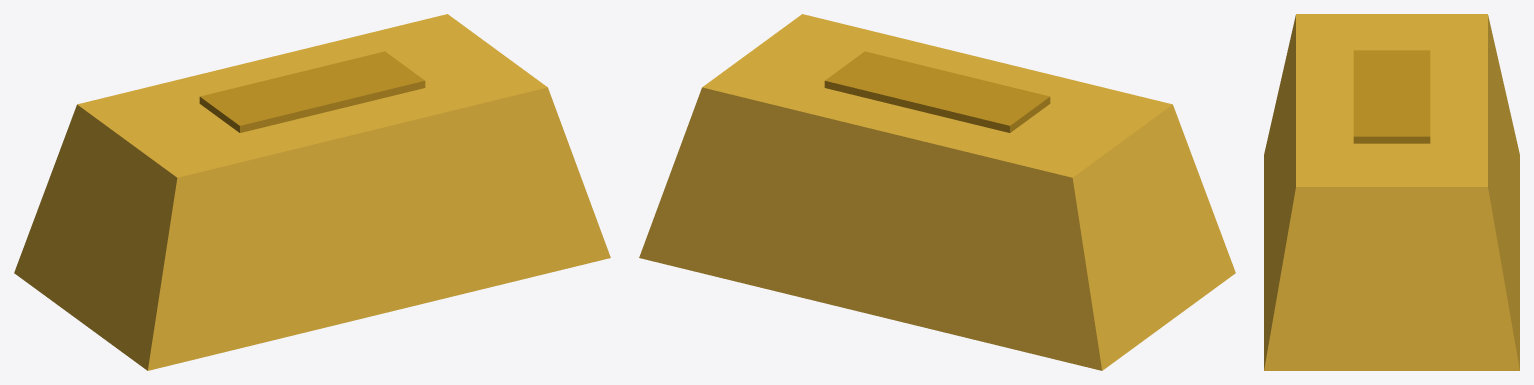
The model's file is goldBar.fbx.
The picture shows the model from 3 angles, left to right: view 1: azimuth 30°, elevation 25°; view 2: azimuth 150°, elevation 25°; view 3: azimuth 270°, elevation 25°; orthographic projection. The views are drawn at different scales.
Visible parts, largest first — view 1: goldBar; view 2: goldBar; view 3: goldBar.
Boxes of the visible parts, x1=… form: goldBar: x1=14, y1=14, x2=610, y2=370; goldBar: x1=639, y1=14, x2=1235, y2=370; goldBar: x1=1264, y1=14, x2=1519, y2=370.
Size of the model in its own units: 0.4 by 0.146 by 0.2.
